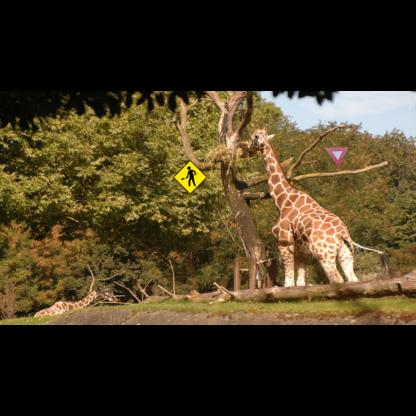A-24: (173, 160, 207, 194)
